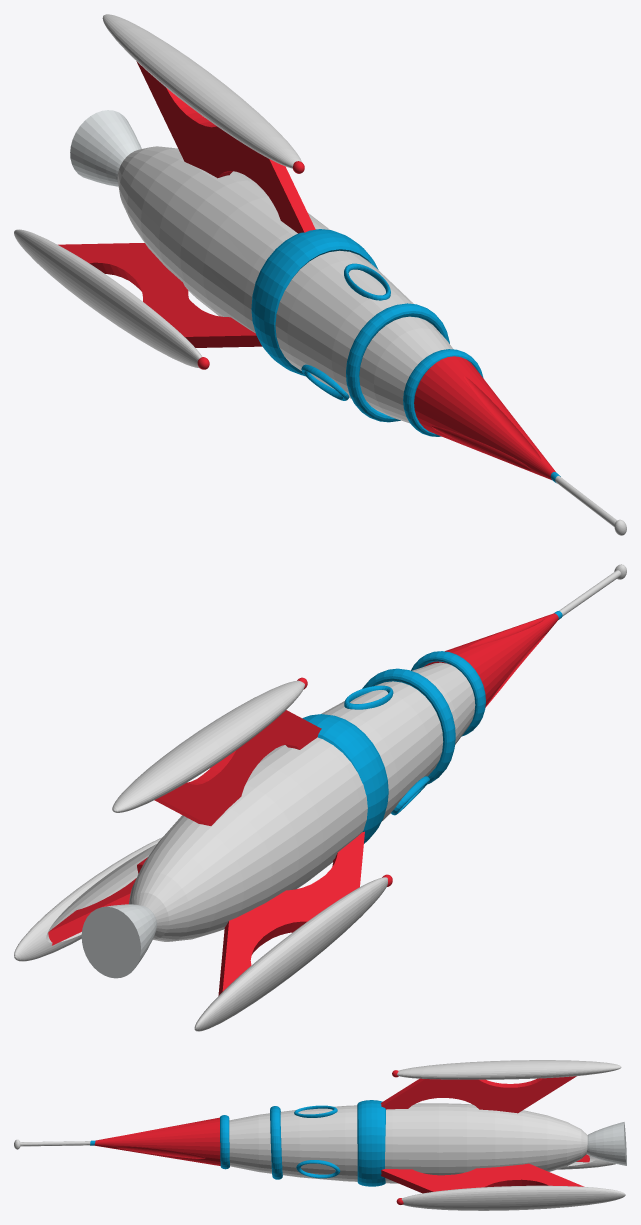
Rendered from tinker.obj.
3 views of the same model, one above another, from view 1: azimuth 30°, elevation 25°; view 2: azimuth 150°, elevation 25°; view 3: azimuth 270°, elevation 25° (orthographic). The views are drawn at different scales.
Parts seen in each view (by area): view 1: group_0_16448250, group_0_15277357, group_0_40919, group_0_14541540; view 2: group_0_16448250, group_0_15277357, group_0_40919, group_0_14541540; view 3: group_0_16448250, group_0_15277357, group_0_40919, group_0_14541540.
Boxes of the visible parts, x1,y1,x2,y2 form: group_0_16448250: (14,14,626,535); group_0_15277357: (58,61,555,479); group_0_40919: (251,229,560,483); group_0_14541540: (70,110,141,186); group_0_16448250: (14,564,626,1031); group_0_15277357: (48,613,558,995); group_0_40919: (302,611,562,843); group_0_14541540: (81,904,156,978); group_0_16448250: (14,1060,625,1210); group_0_15277357: (94,1070,589,1204); group_0_40919: (90,1100,385,1186); group_0_14541540: (586,1122,626,1165).
Size of the model in its own units: 54.85 by 55.75 by 235.
